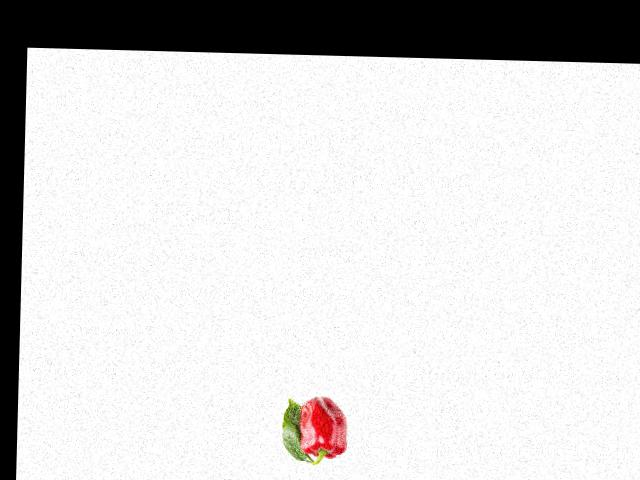bell_pepper: (295, 393, 354, 465)
